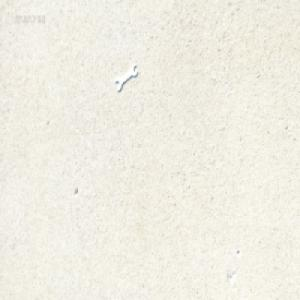Wrench: (115, 64, 137, 92)
